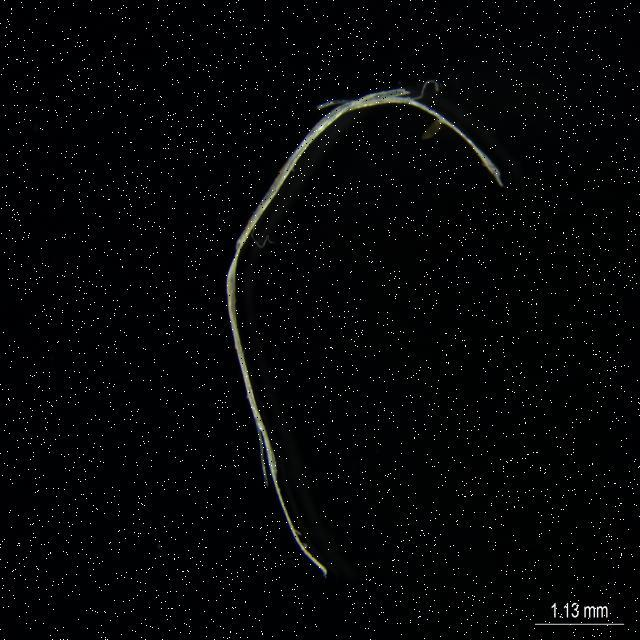fiber: (225, 84, 506, 585)
